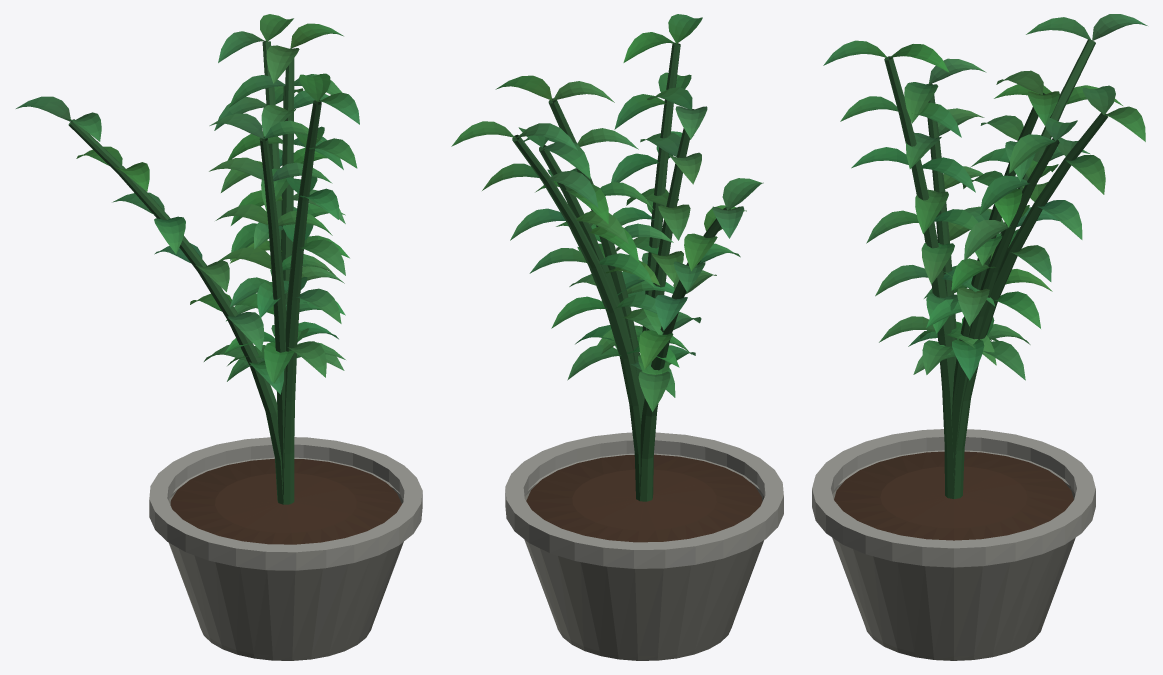
The model's file is zamioculca.glb.
The picture shows the model from 3 angles, left to right: view 1: azimuth 30°, elevation 25°; view 2: azimuth 150°, elevation 25°; view 3: azimuth 270°, elevation 25°; orthographic projection. The views are drawn at different scales.
Parts seen in each view (by area): view 1: zamioculca; view 2: zamioculca; view 3: zamioculca.
Boxes of the visible parts, bbox=[...] form: zamioculca: bbox=[16, 14, 422, 660]; zamioculca: bbox=[451, 14, 783, 660]; zamioculca: bbox=[812, 14, 1147, 660].
Size of the model in its own units: 0.2385 by 0.4292 by 0.2265.
1 material, 1 textured.
